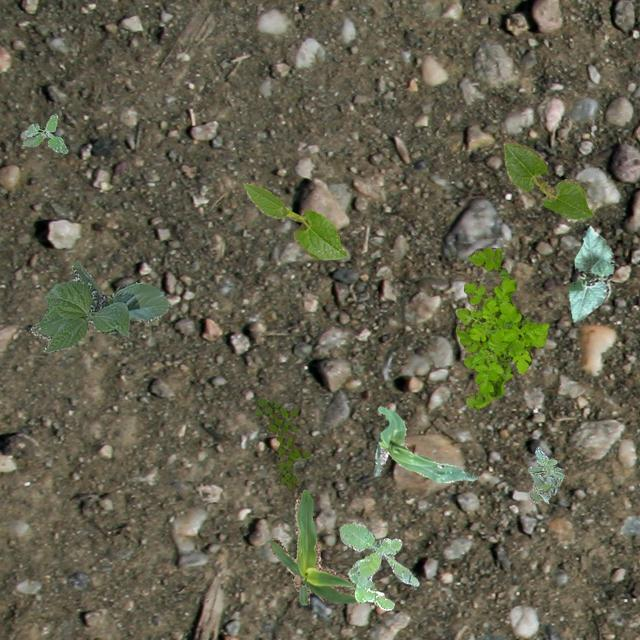crop: (29, 258, 170, 352), (268, 488, 360, 604), (242, 182, 346, 258), (372, 406, 476, 482), (502, 138, 592, 218), (568, 225, 614, 322)
weed: (454, 247, 548, 408), (338, 522, 418, 610), (252, 396, 310, 491), (526, 447, 564, 502), (19, 112, 66, 152)
